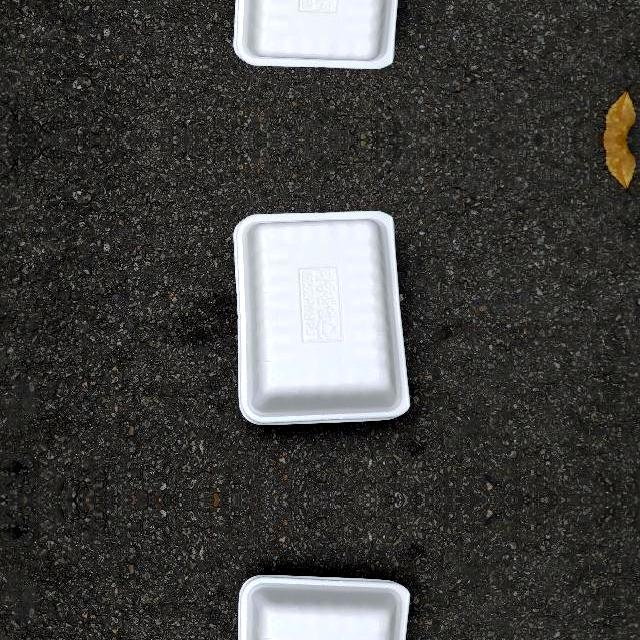Styrofoam: (233, 210, 411, 425), (234, 208, 411, 424), (233, 0, 410, 71), (233, 0, 398, 70), (233, 576, 410, 640), (238, 575, 411, 640)
